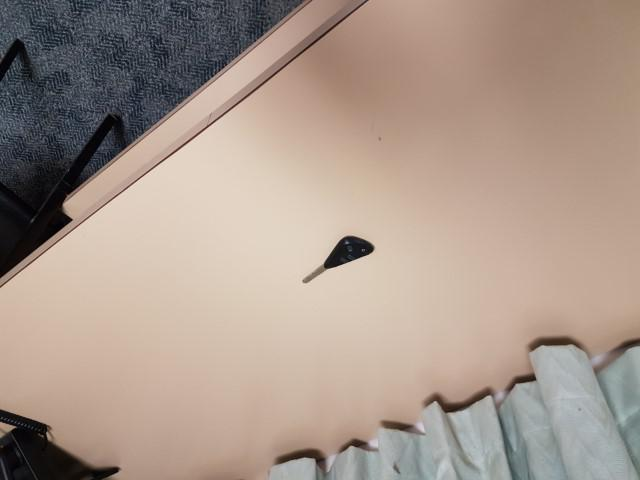key: (297, 232, 380, 288)
